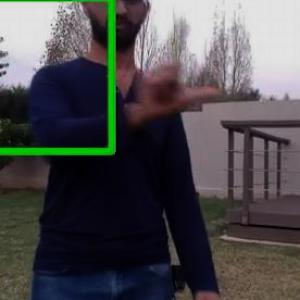land_hand: (111, 9, 228, 129)
